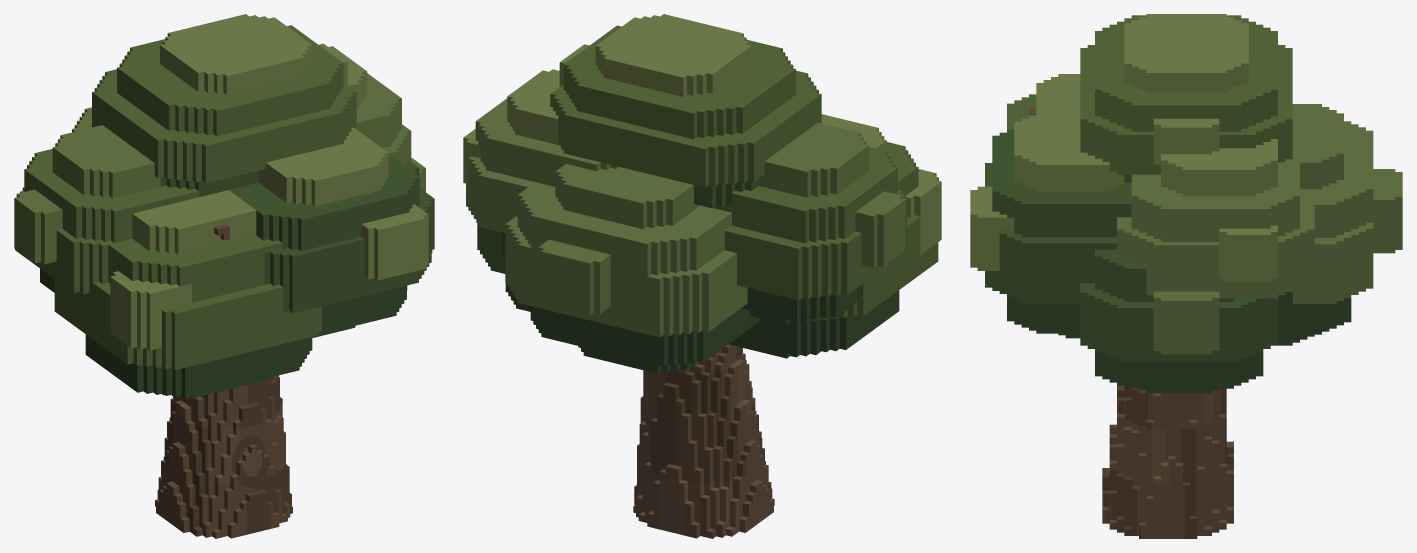
Rendered from apple_ancient.glb.
3 views of the same model, side by side, from view 1: azimuth 30°, elevation 25°; view 2: azimuth 150°, elevation 25°; view 3: azimuth 270°, elevation 25° (orthographic). The views are drawn at different scales.
Parts seen in each view (by area): view 1: VoxelVisual; view 2: VoxelVisual; view 3: VoxelVisual.
Part boxes in pixels (x1,y1,x2,y2): VoxelVisual: (14, 14, 434, 538); VoxelVisual: (463, 14, 941, 538); VoxelVisual: (970, 14, 1402, 538).
Size of what is drawn, in the model's own units: 16.25 by 18 by 14.75.
